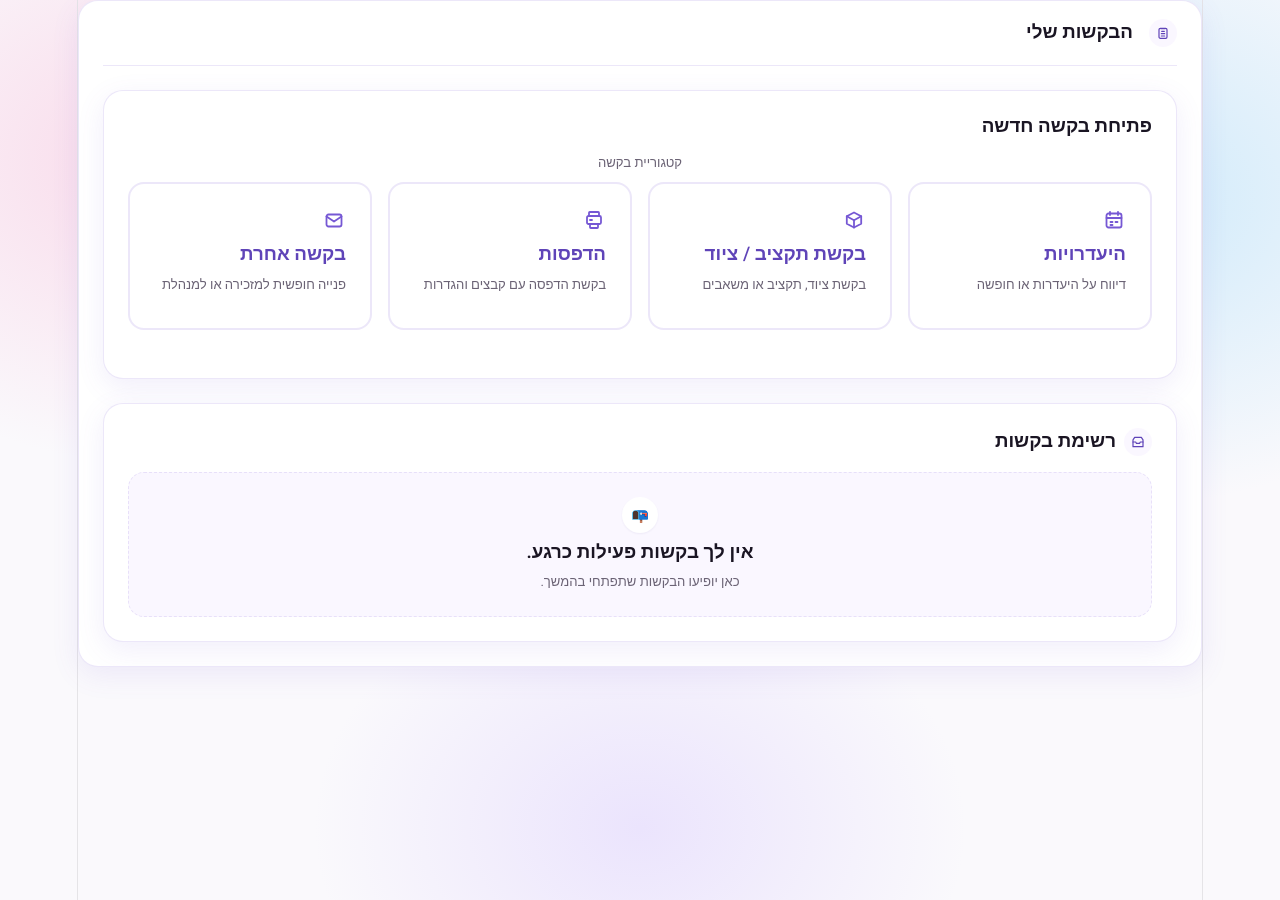
Scenario: TeacherRequestsSection modal create flow › opens the selected request type inside a modal for every category
The width and height of the screenshot is (1280, 900).
Click the radio button labelled "היעדרויות דיווח על היעדרות או חופשה": coordinates (1030, 256) [908,182,1152,330]
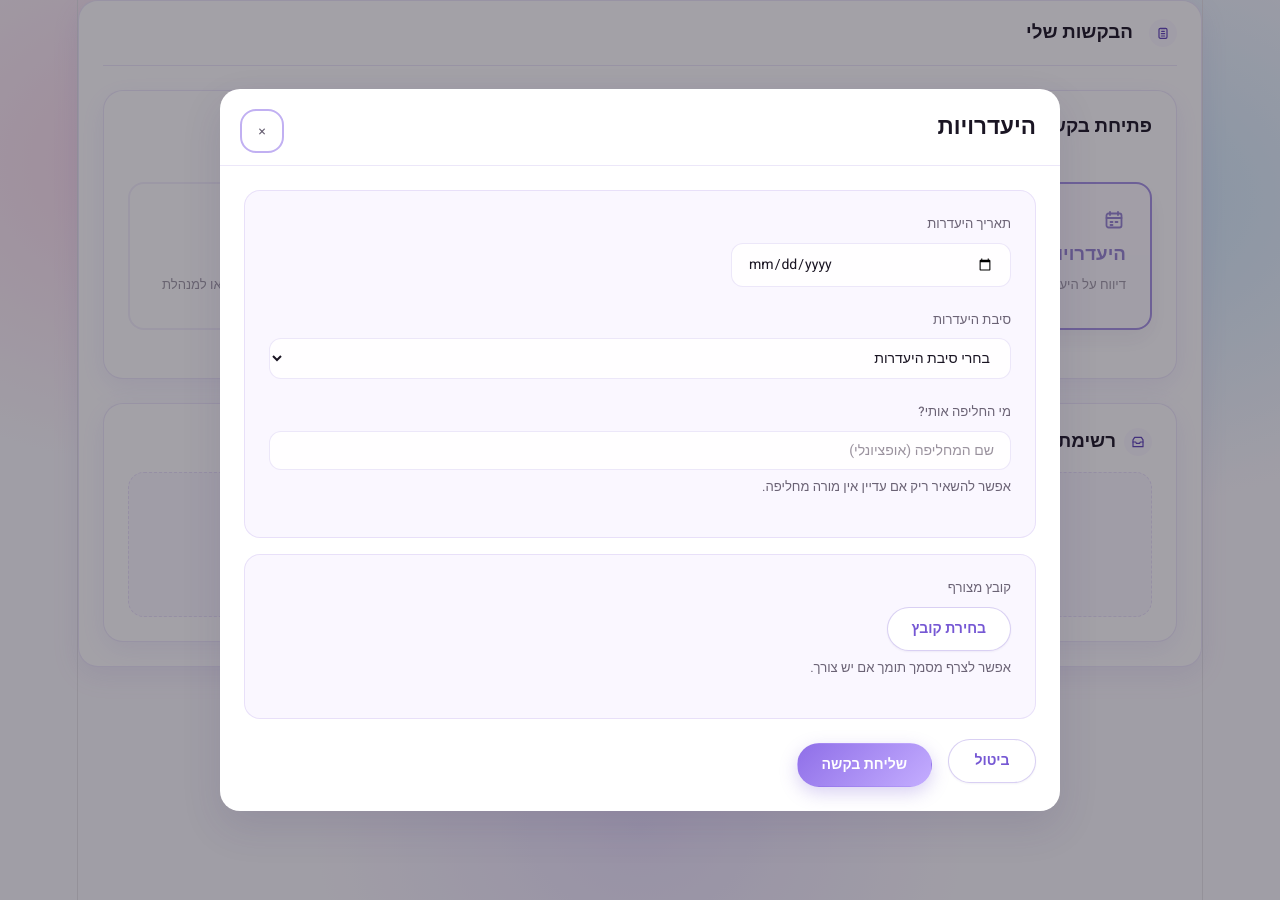
Result: the dialog "היעדרויות" is shown at [220,89,1060,811]
Result: the date field labelled "תאריך היעדרות" is shown at [731,243,1011,287]
Click the button named "סגירת טופס בקשה": coordinates (262, 131) [244,113,280,149]
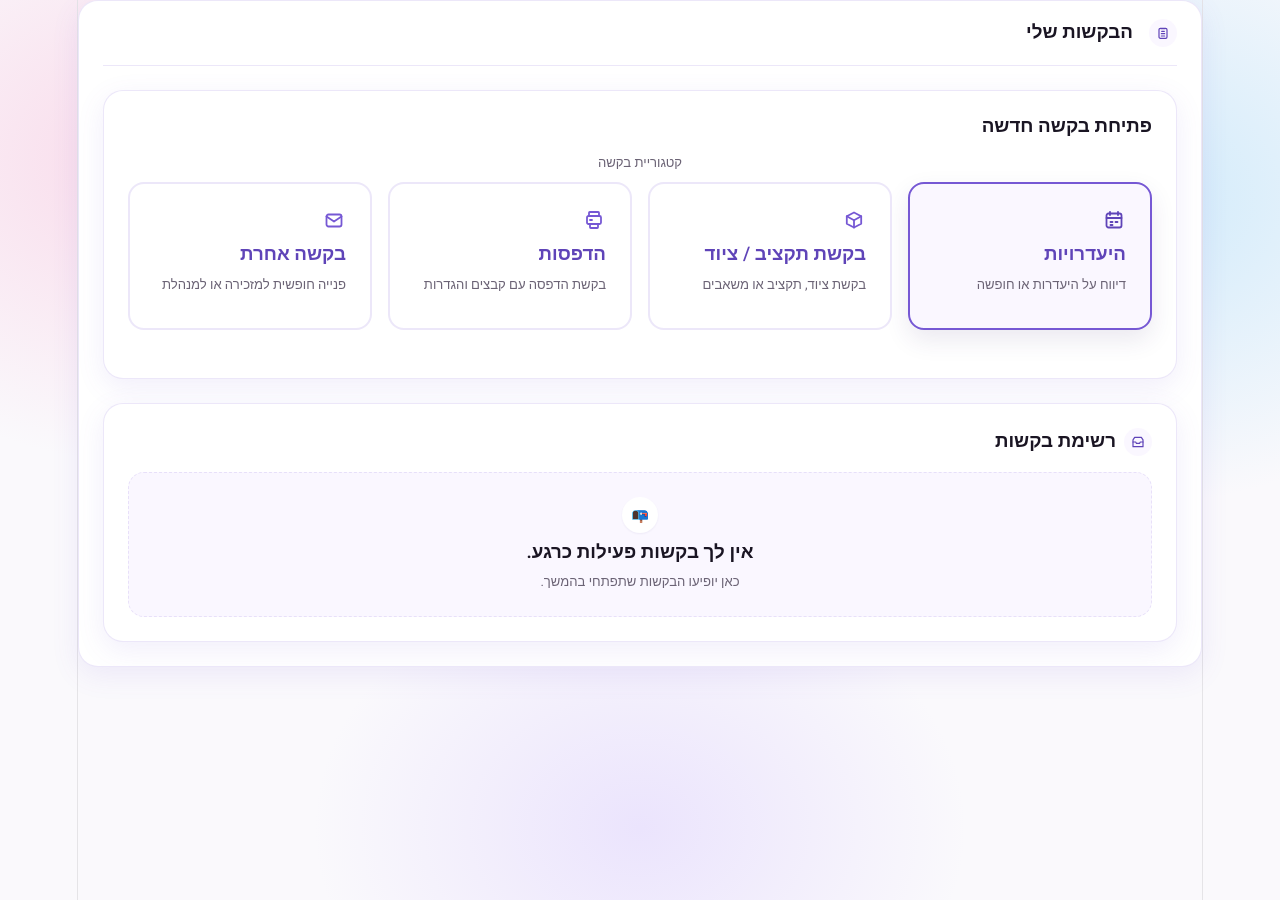
Result: the dialog is gone
Click the radio button labelled "בקשת תקציב / ציוד בקשת ציוד, תקציב או משאבים": coordinates (770, 256) [648,182,892,330]
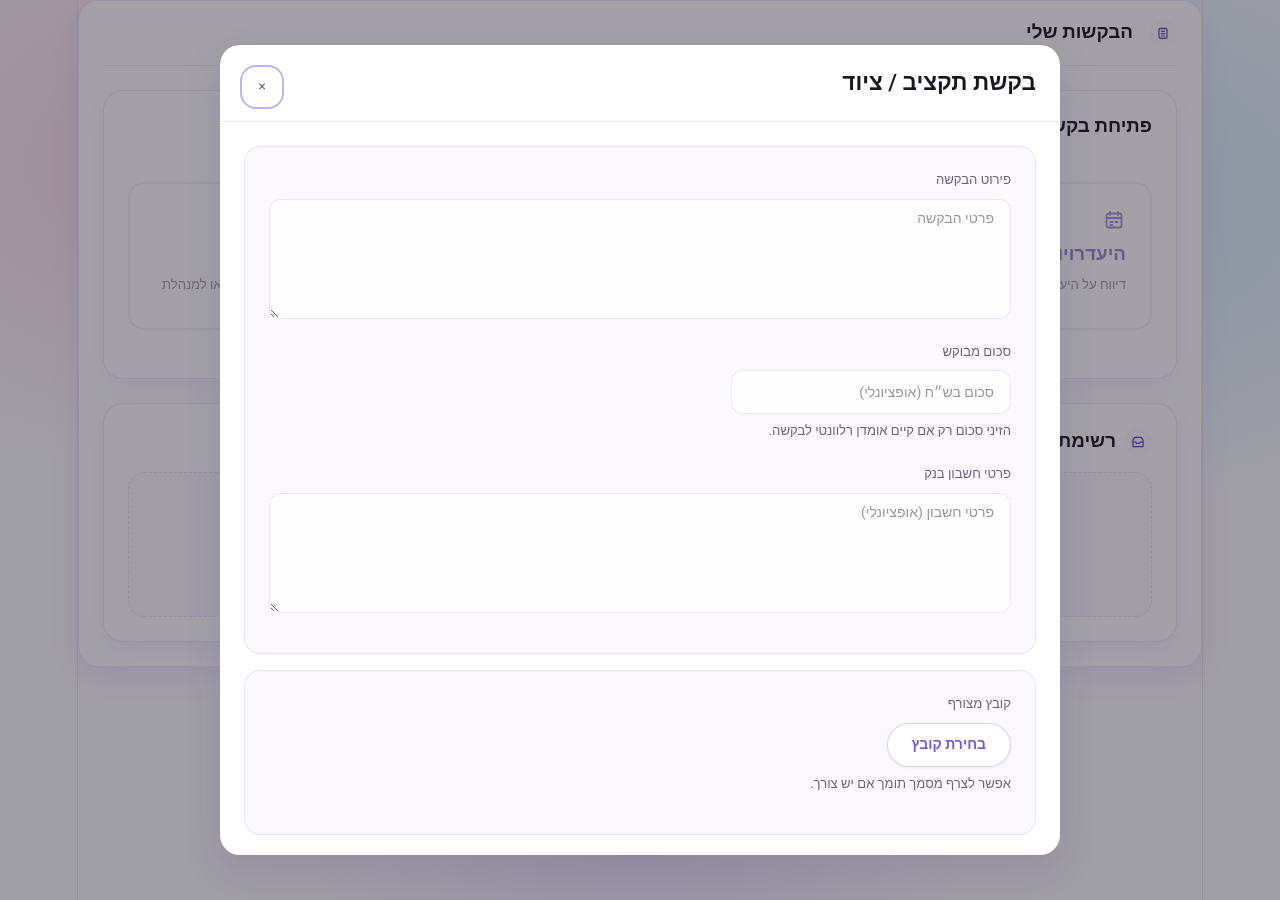
Result: the dialog "בקשת תקציב / ציוד" is shown at [220,45,1060,855]
Result: the text box labelled "פירוט הבקשה" is shown at [269,199,1011,319]
Click the button named "סגירת טופס בקשה": coordinates (262, 87) [244,69,280,105]
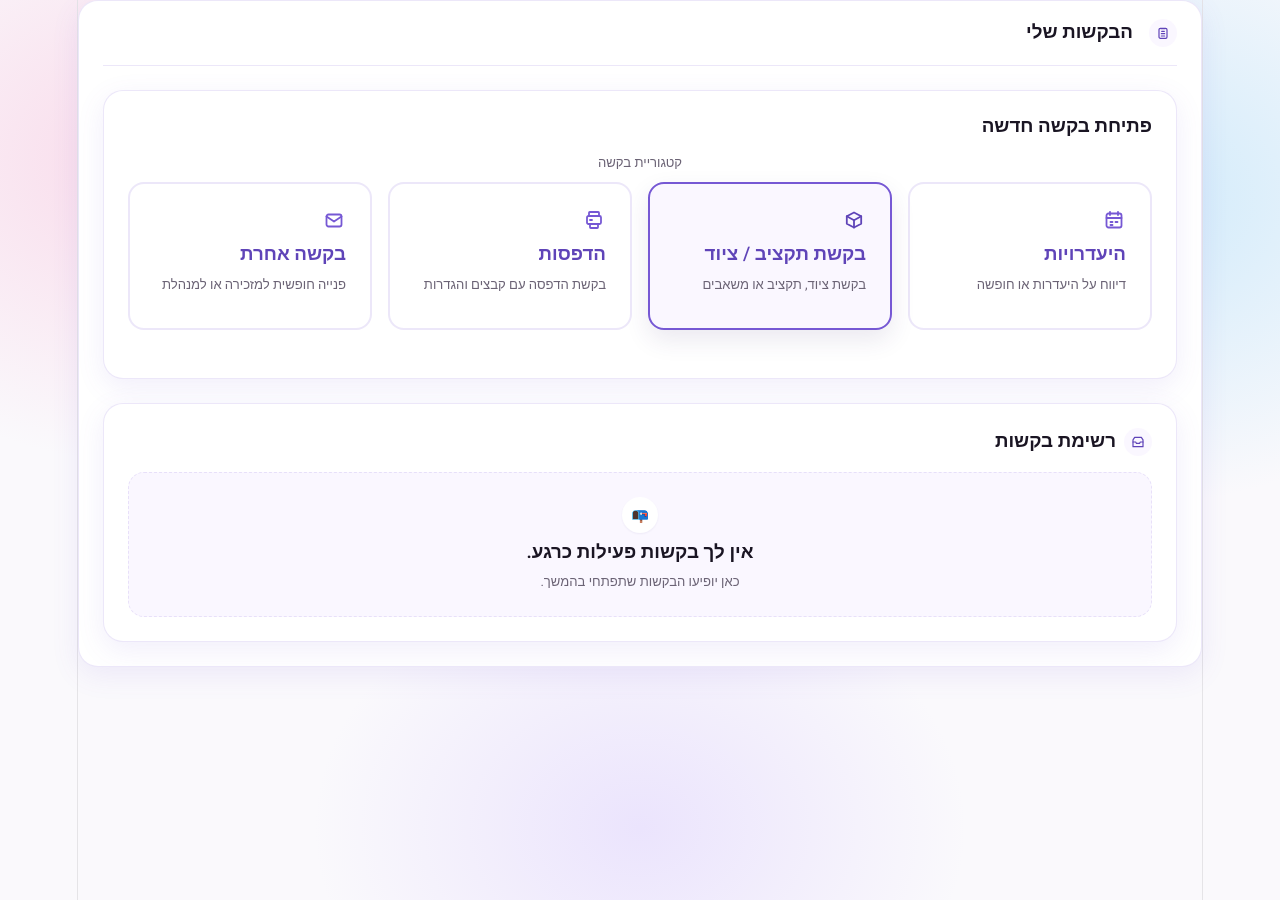
Result: the dialog is gone
Click the radio button labelled "בקשה אחרת פנייה חופשית למזכירה או למנהלת": coordinates (250, 256) [128,182,372,330]
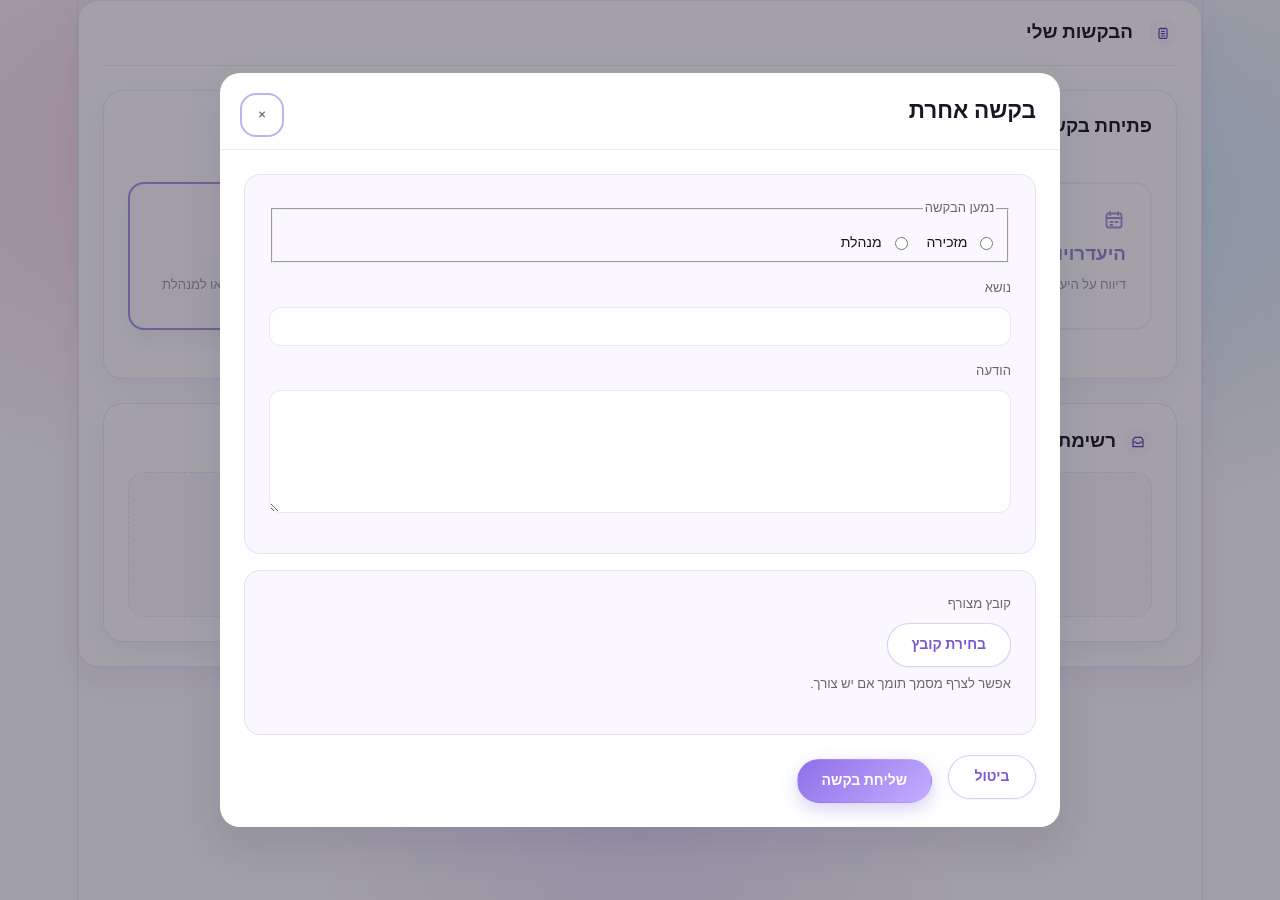
Result: the dialog "בקשה אחרת" is shown at [220,73,1060,827]
Click the button named "סגירת טופס בקשה": coordinates (262, 115) [244,97,280,133]
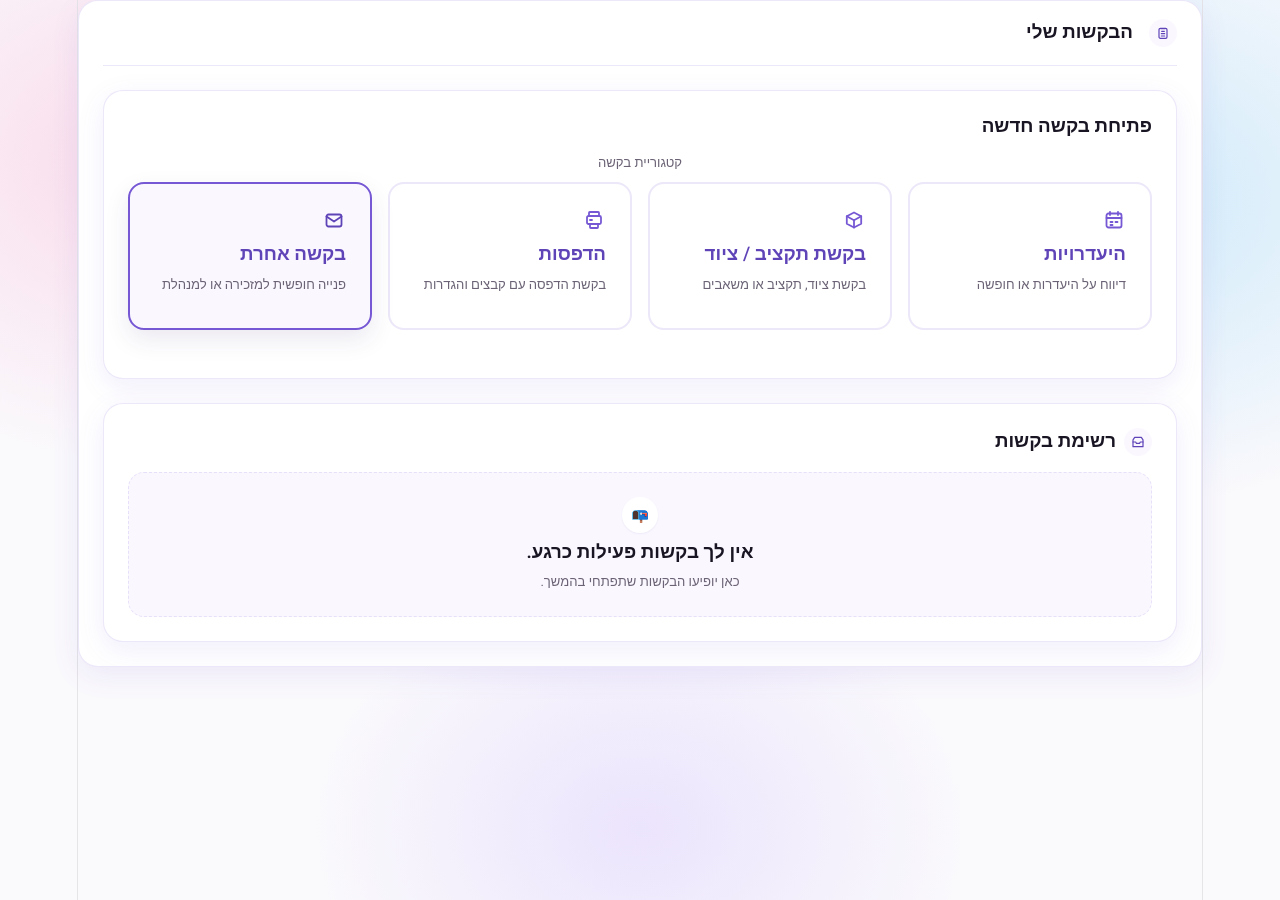
Result: the dialog is gone
